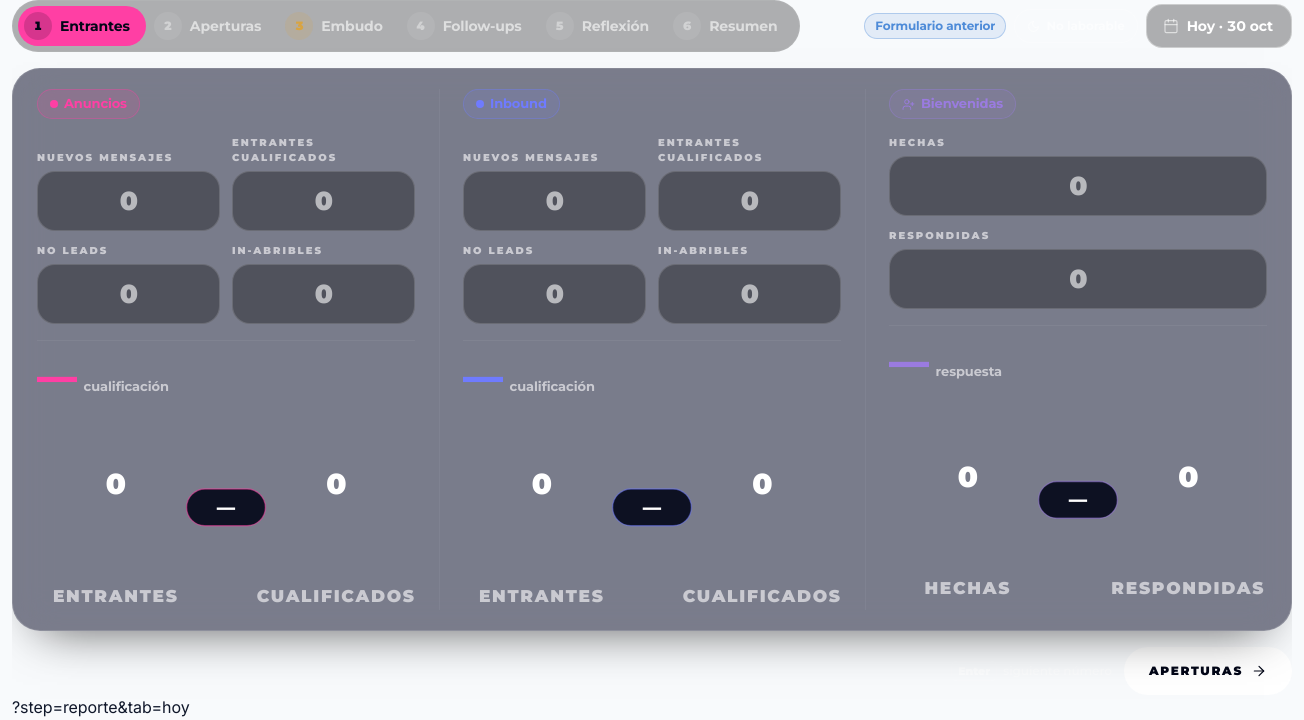
Test: ReporteDiario · de dónde salen los números › un día del formulario anterior se rehace por canal: avisa y precarga los canales
Check: the text "Formulario anterior" is shown, box [875,17,995,35]
Check: the field named "Anuncios, nuevos mensajes" is empty, box [38,172,219,230]
Click the button "Aperturas" at x=1208, y=671, box [1124,647,1292,695]
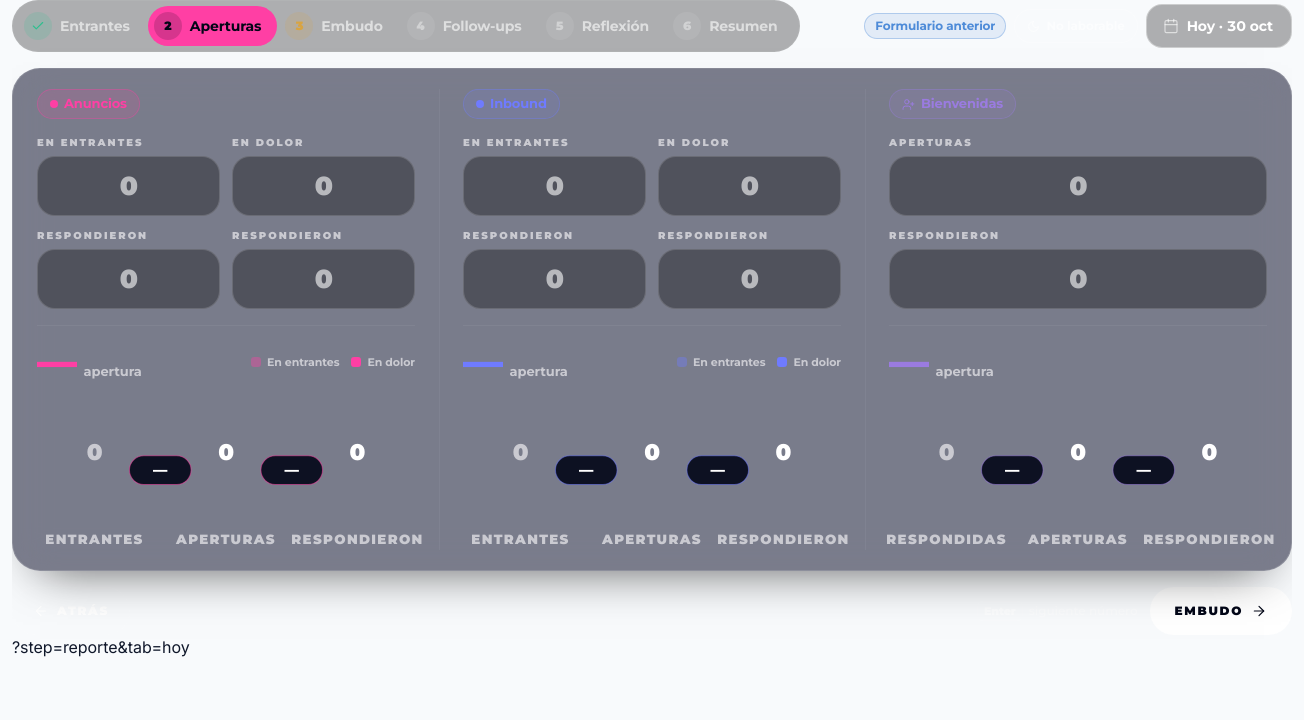
Click the button "Embudo" at x=1221, y=611, box [1150,587,1292,635]
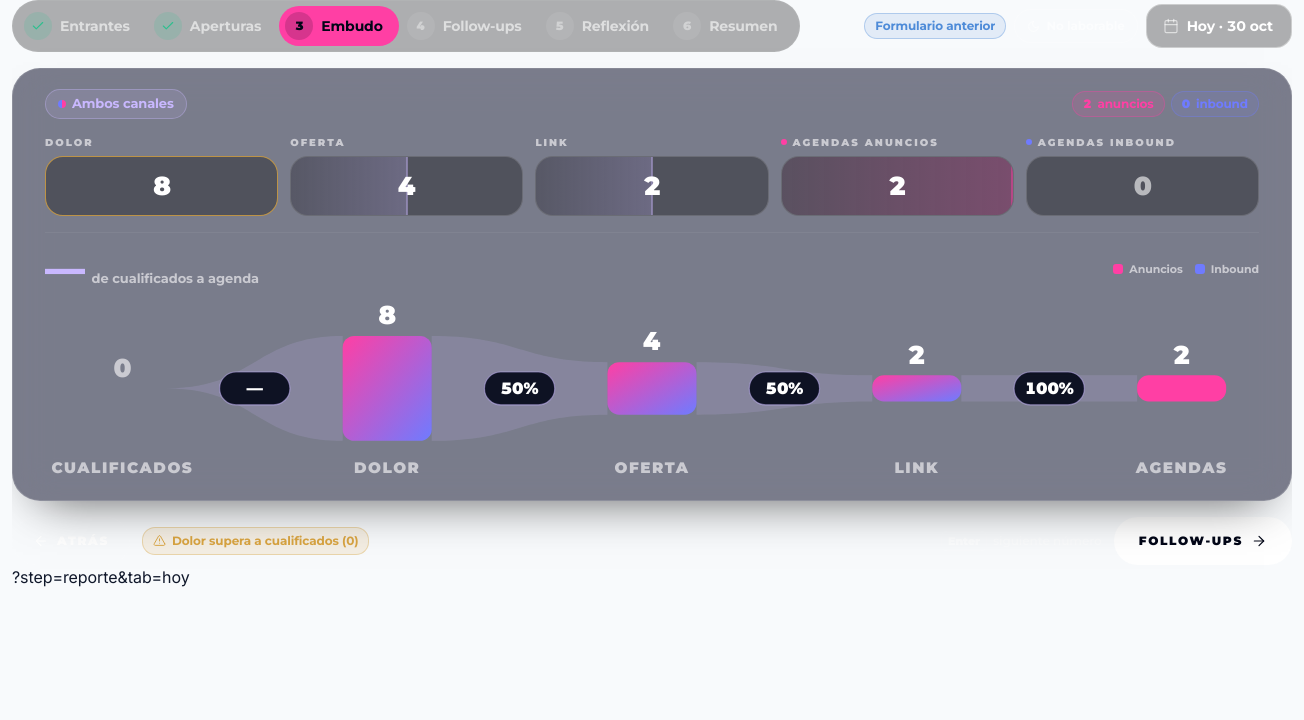
Check: the field named "Dolor" holds "8", box [46,157,277,215]
Check: the field named "Agendas de anuncios" holds "2", box [782,157,1013,215]
